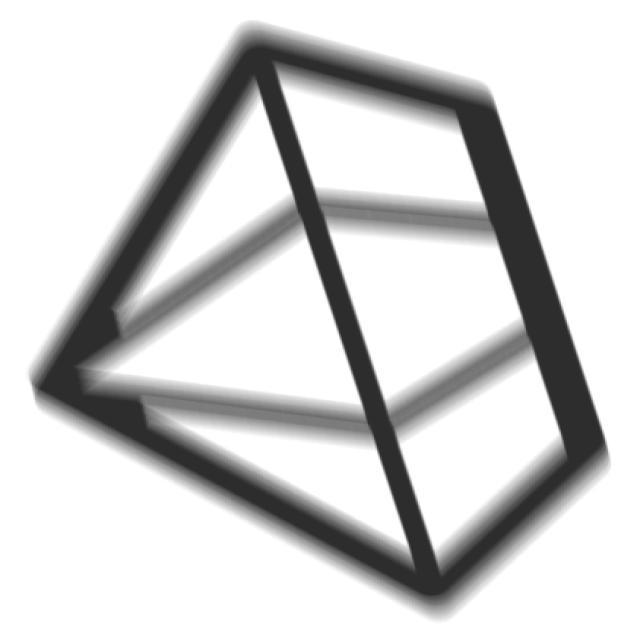diamond: (18, 10, 625, 633)
